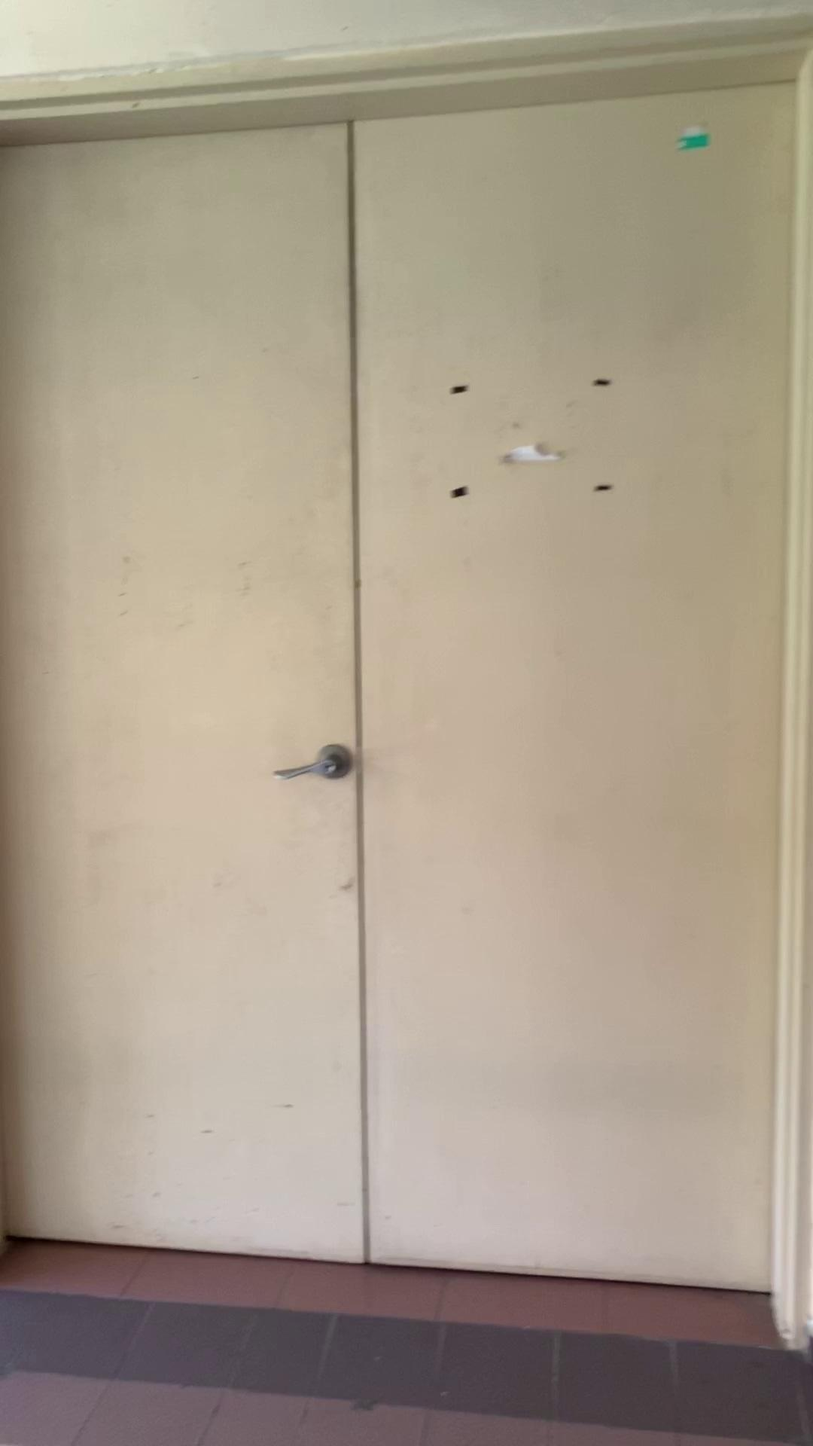door: (0, 80, 360, 1210)
